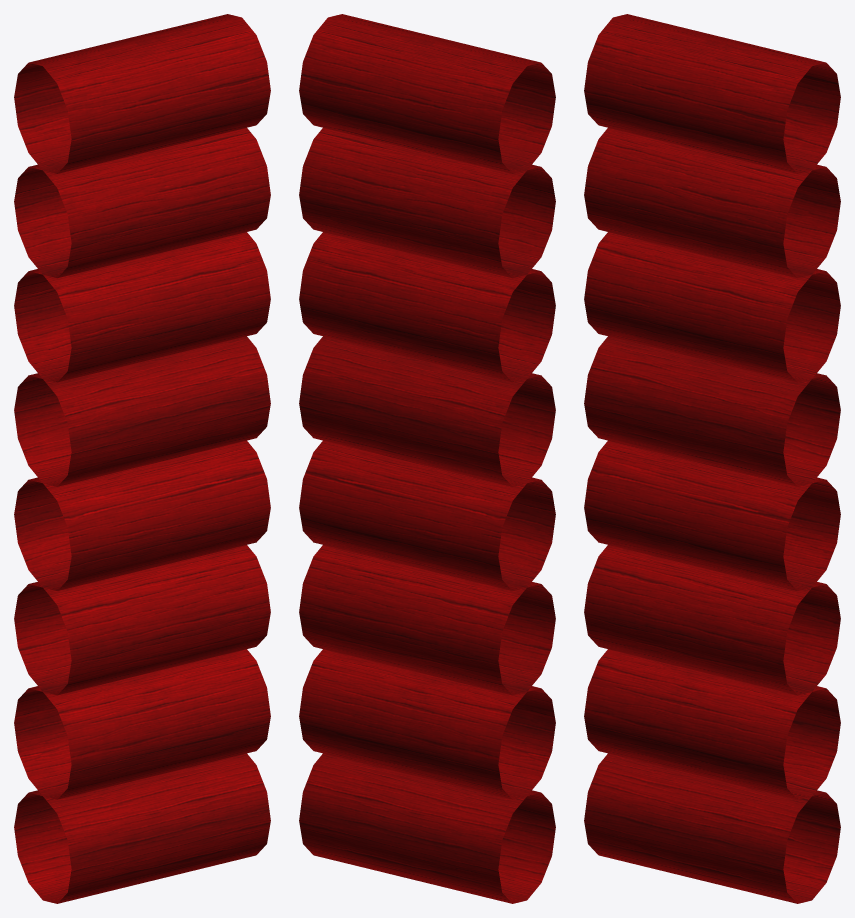
Rendered from WallLogShort01.fbx.
3 renders of one model, left to right at view 1: azimuth 30°, elevation 25°; view 2: azimuth 150°, elevation 25°; view 3: azimuth 330°, elevation 25°, orthographic.
Parts seen in each view (by area): view 1: WallLogShort01_LOD0; view 2: WallLogShort01_LOD0; view 3: WallLogShort01_LOD0.
Part boxes in pixels (x1,y1,x2,y2): WallLogShort01_LOD0: (14,14,270,903); WallLogShort01_LOD0: (299,14,555,903); WallLogShort01_LOD0: (584,14,840,903).
Size of what is drawn, in the model's own units: 0.5 by 2 by 0.25.
